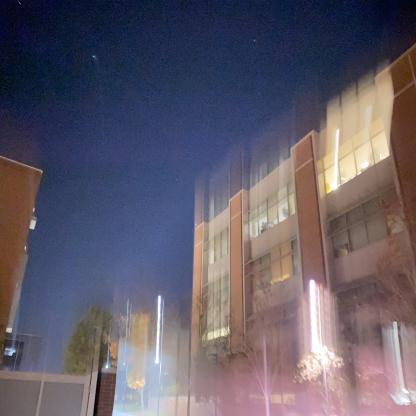eb2: (197, 107, 415, 394)
